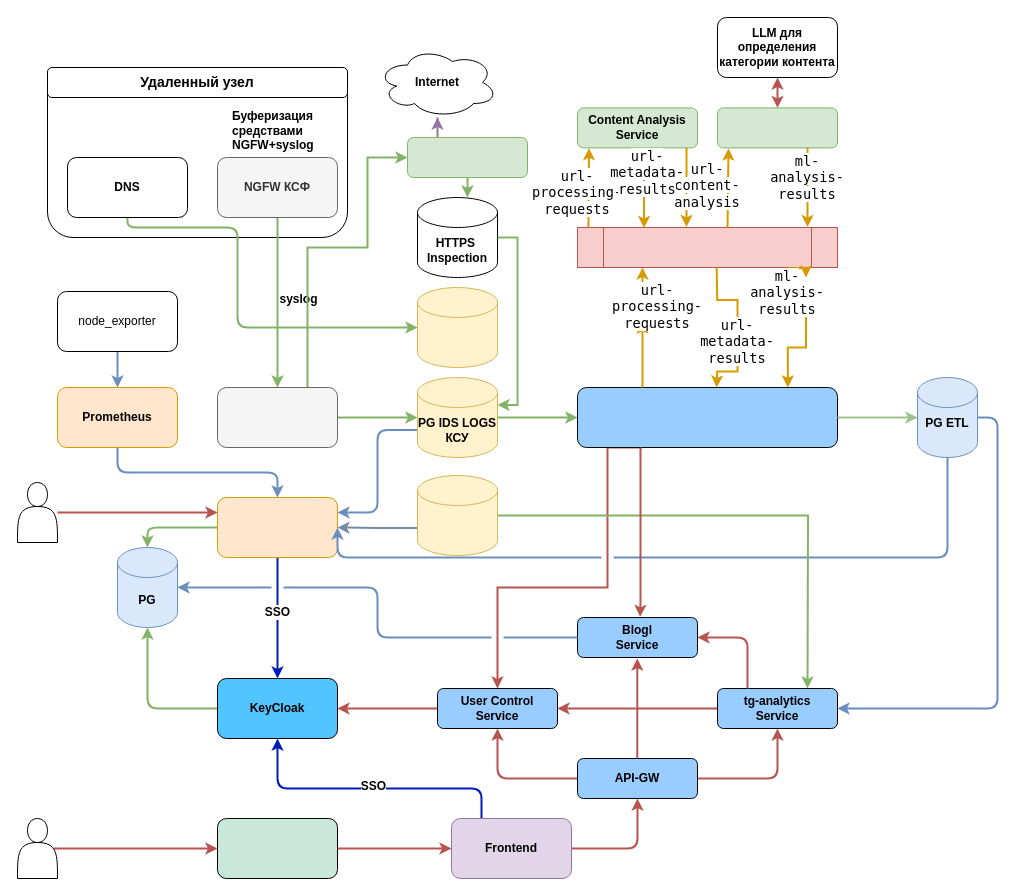
This 1024x896 diagram has some shape labels left out. Here are the shapes that lost their labels. From the top down, the box of each, then its label:
(716, 107, 838, 148): LLM Service
(406, 136, 528, 178): Получение контента
(576, 226, 838, 268): Kafka
(416, 286, 498, 368): Loki
(216, 386, 338, 448): NGFW КСУ
(576, 386, 838, 448): tg-etl service
(216, 496, 338, 558): Grafana
(416, 474, 498, 556): PG metrics КСУ
(216, 818, 338, 878): Nginx
